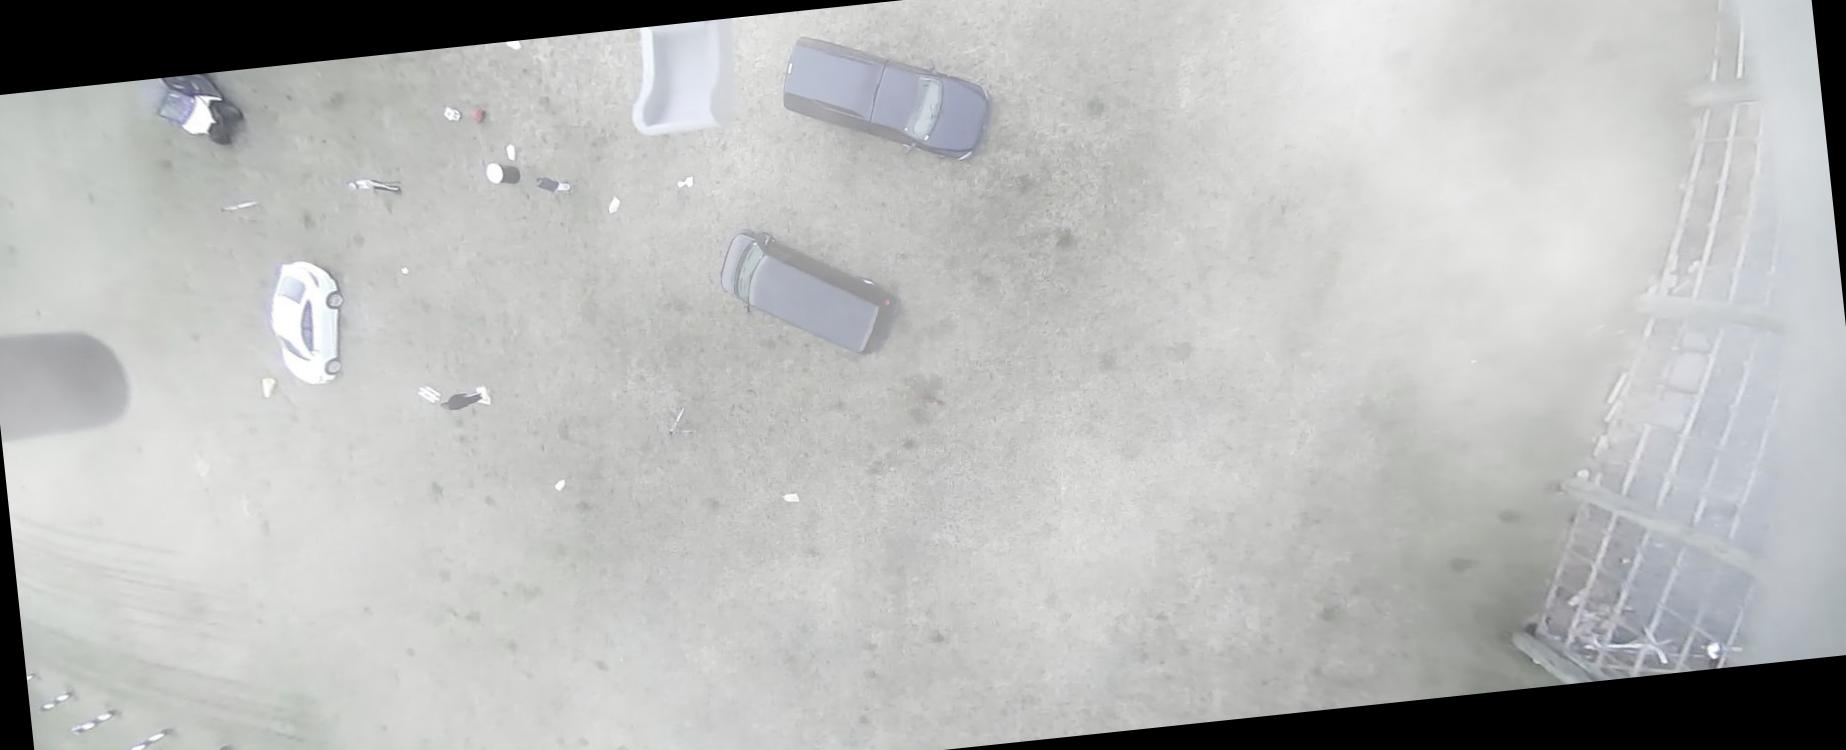vehicle: (773, 16, 998, 180), (715, 212, 899, 366), (266, 254, 354, 389), (145, 69, 248, 153)
